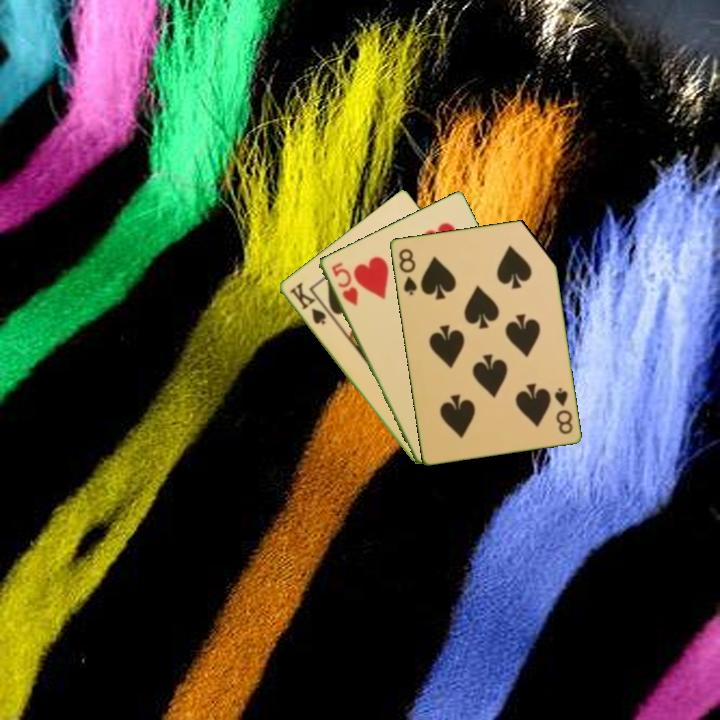5h: (327, 258, 361, 309)
8s: (550, 384, 575, 437), (395, 245, 419, 298)
Ks: (285, 279, 329, 328)
